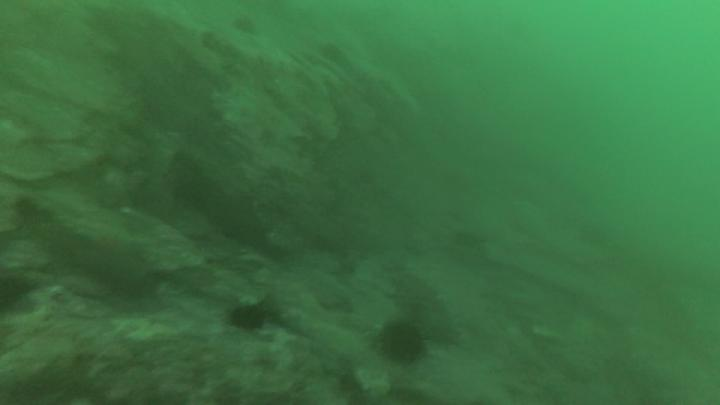holothurian: (80, 231, 141, 262)
starfish: (383, 323, 426, 365), (232, 306, 264, 330), (235, 17, 255, 35)
